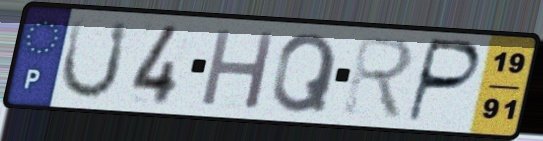4: (126, 21, 182, 108)
H: (196, 25, 280, 112)
P: (403, 36, 485, 126)
Q: (269, 31, 341, 116)
R: (340, 33, 417, 124)
U: (56, 15, 133, 102)
